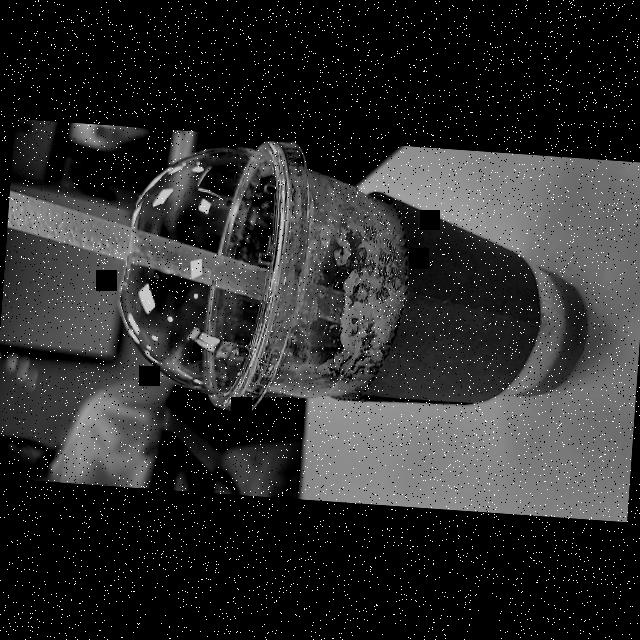plastic_cup: (105, 126, 600, 444)
plastic_cup_lid: (109, 127, 317, 424)
straw: (8, 189, 352, 322)
